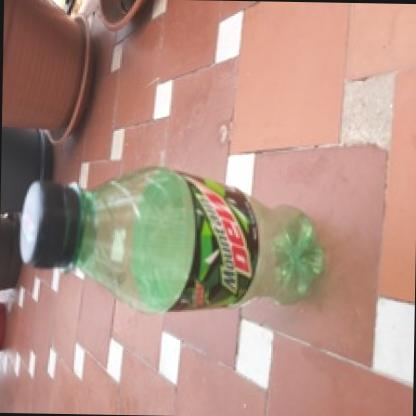plastic_bottles: (14, 164, 335, 318)
